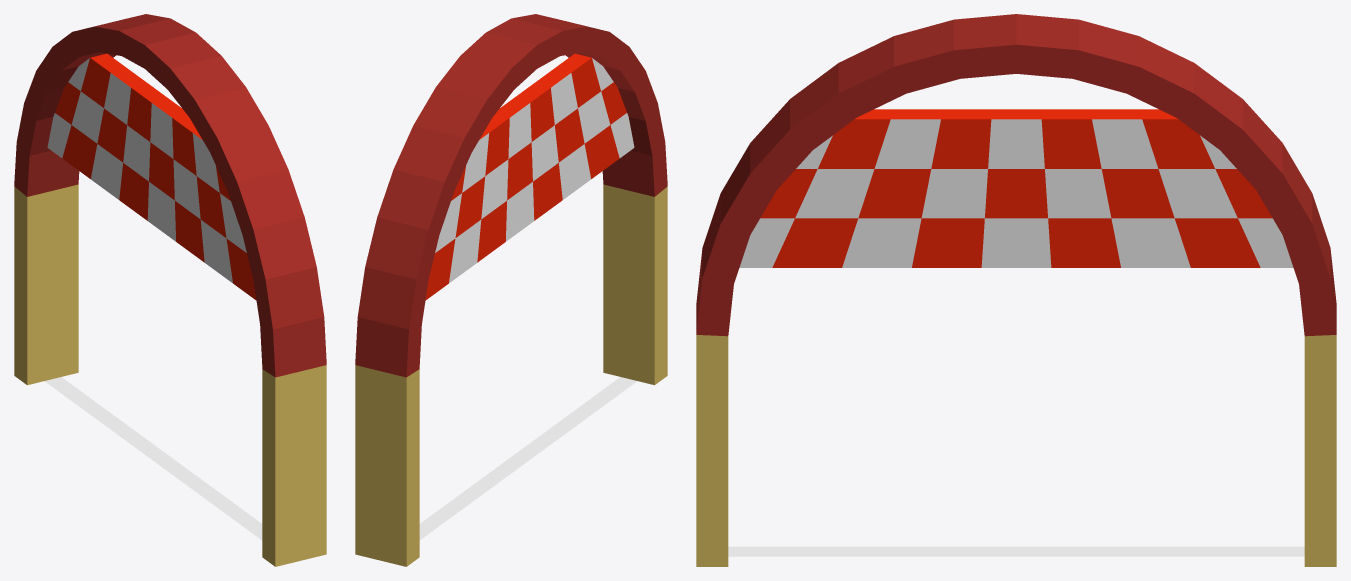
File: Checkpoint.fbx
The picture shows the model from 3 angles, left to right: view 1: azimuth 30°, elevation 25°; view 2: azimuth 150°, elevation 25°; view 3: azimuth 270°, elevation 25°; orthographic projection. The views are drawn at different scales.
Parts seen in each view (by area): view 1: Cylinder, Plane; view 2: Cylinder, Plane; view 3: Plane, Cylinder.
Boxes of the visible parts, <box> form: Cylinder: <box>14,14,326,566</box>; Plane: <box>47,53,256,300</box>; Cylinder: <box>355,14,667,566</box>; Plane: <box>425,53,634,300</box>; Plane: <box>739,109,1293,267</box>; Cylinder: <box>696,14,1336,566</box>.
Size of the model in its own units: 22.68 by 180 by 200.
